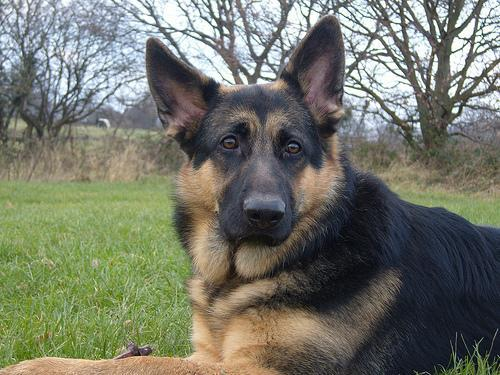German_shepherd: (1, 13, 499, 374)
